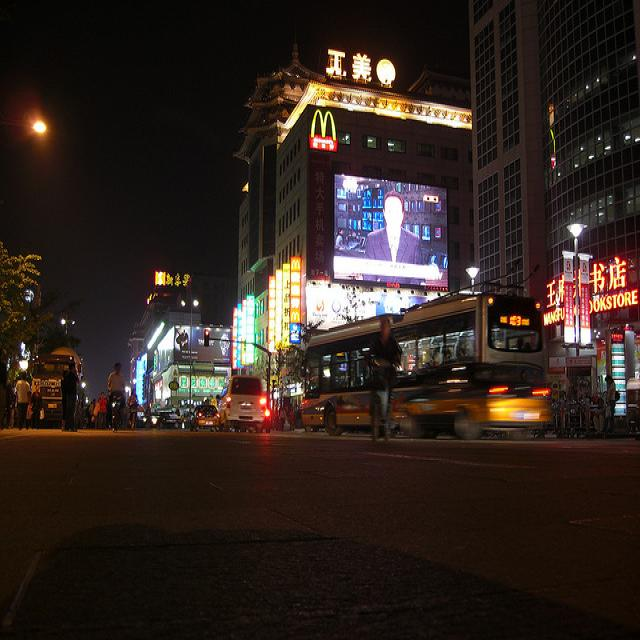Bus: (302, 293, 564, 434)
People: (374, 303, 411, 443), (56, 346, 83, 440), (4, 372, 38, 431), (107, 362, 130, 432)
car: (397, 362, 577, 452), (14, 343, 83, 429), (222, 367, 271, 433)
